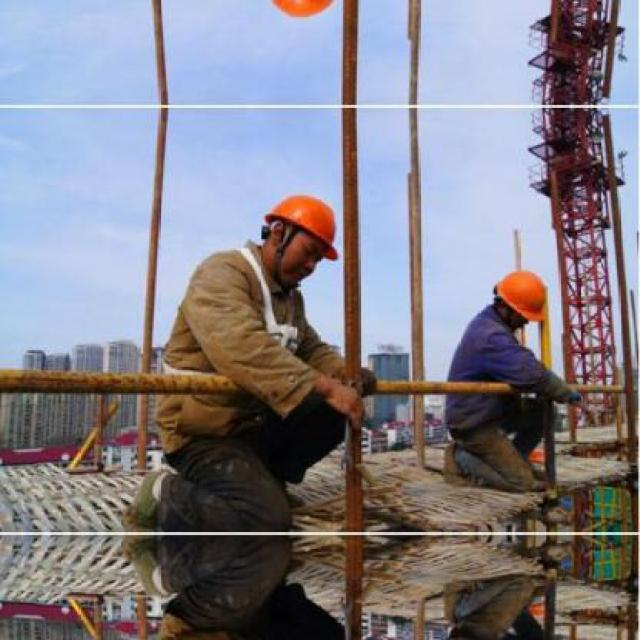helmet: (244, 184, 350, 284), (488, 264, 554, 330), (243, 0, 350, 29)
